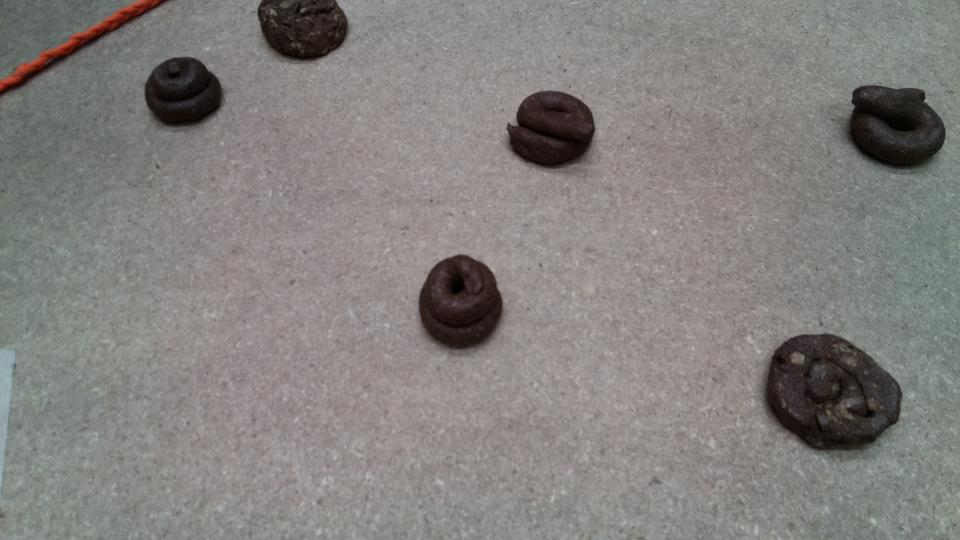poop: (764, 327, 904, 462), (843, 77, 950, 169), (415, 255, 508, 354), (503, 88, 596, 173), (251, 2, 363, 67), (145, 55, 227, 137)
